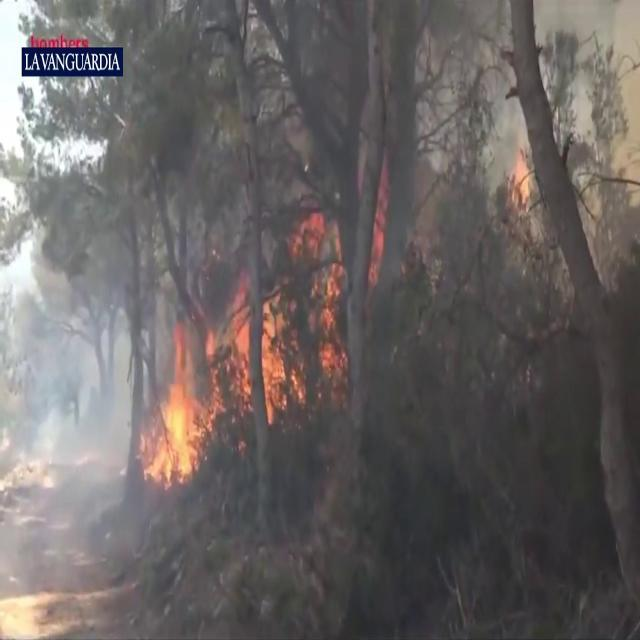Fire: (219, 207, 355, 429), (140, 333, 212, 491)
Smoke: (296, 2, 636, 610), (0, 183, 156, 594)
